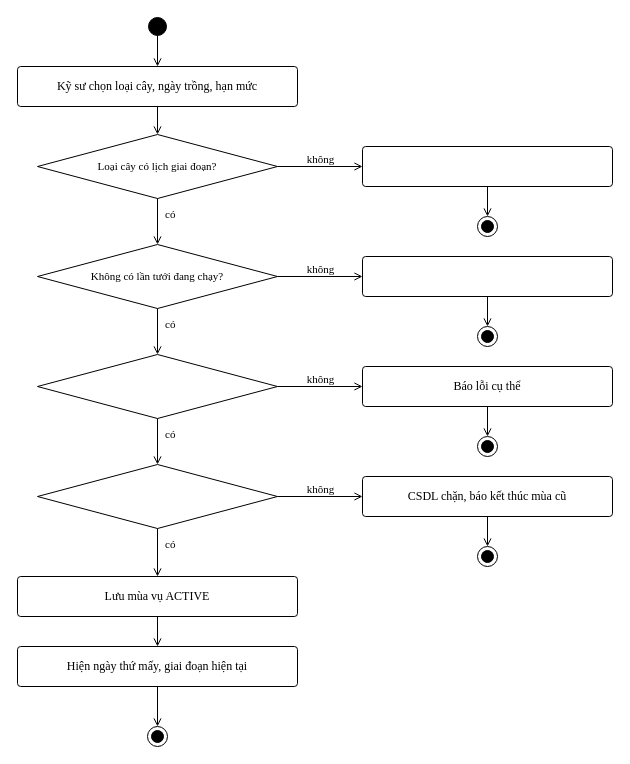
Image size: 630x764. Some labels were removed from this diagram. Here are the shapes that lost their labels. From the top down, the box of each, then its label:
(362, 146, 612, 186): Báo nhập lịch giai đoạn trước
(362, 256, 612, 296): Báo dừng bơm trước
(36, 354, 278, 418): Dữ liệu hợp lệ?
(36, 464, 278, 528): Chưa có mùa vụ ACTIVE?
